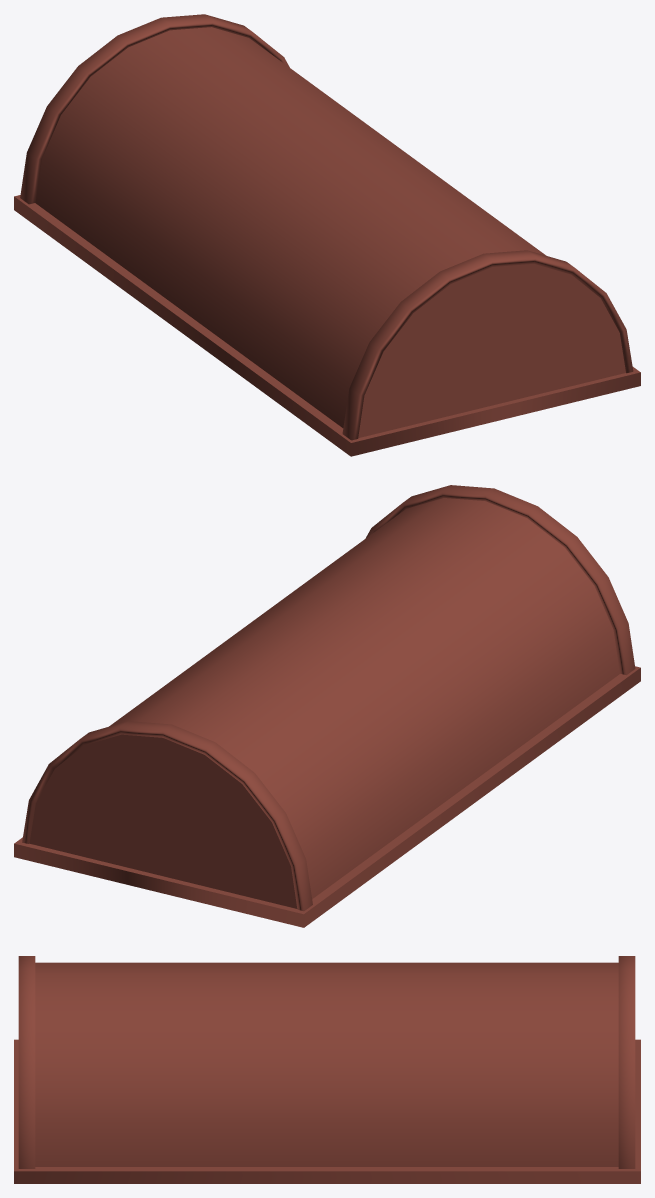
Rendered from Chest_Top.fbx.
The picture shows the model from 3 angles, top to bottom: view 1: azimuth 30°, elevation 25°; view 2: azimuth 150°, elevation 25°; view 3: azimuth 270°, elevation 25°; orthographic projection. The views are drawn at different scales.
Parts seen in each view (by area): view 1: Chest_Top; view 2: Chest_Top; view 3: Chest_Top.
Part boxes in pixels (<box>): Chest_Top: <box>14,14,640,456</box>; Chest_Top: <box>14,485,640,927</box>; Chest_Top: <box>14,956,640,1183</box>.
Bounding box in the file's own units: 18.17 × 9.56 × 36.57.
